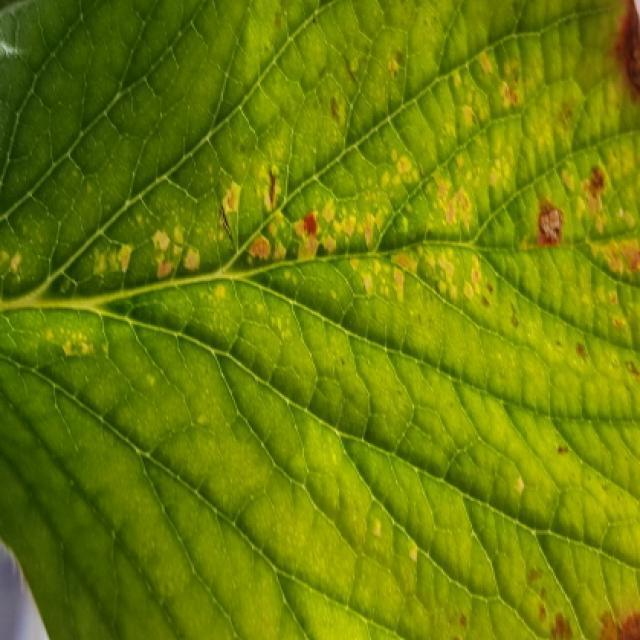Angular Leafspot: (0, 0, 638, 638)
